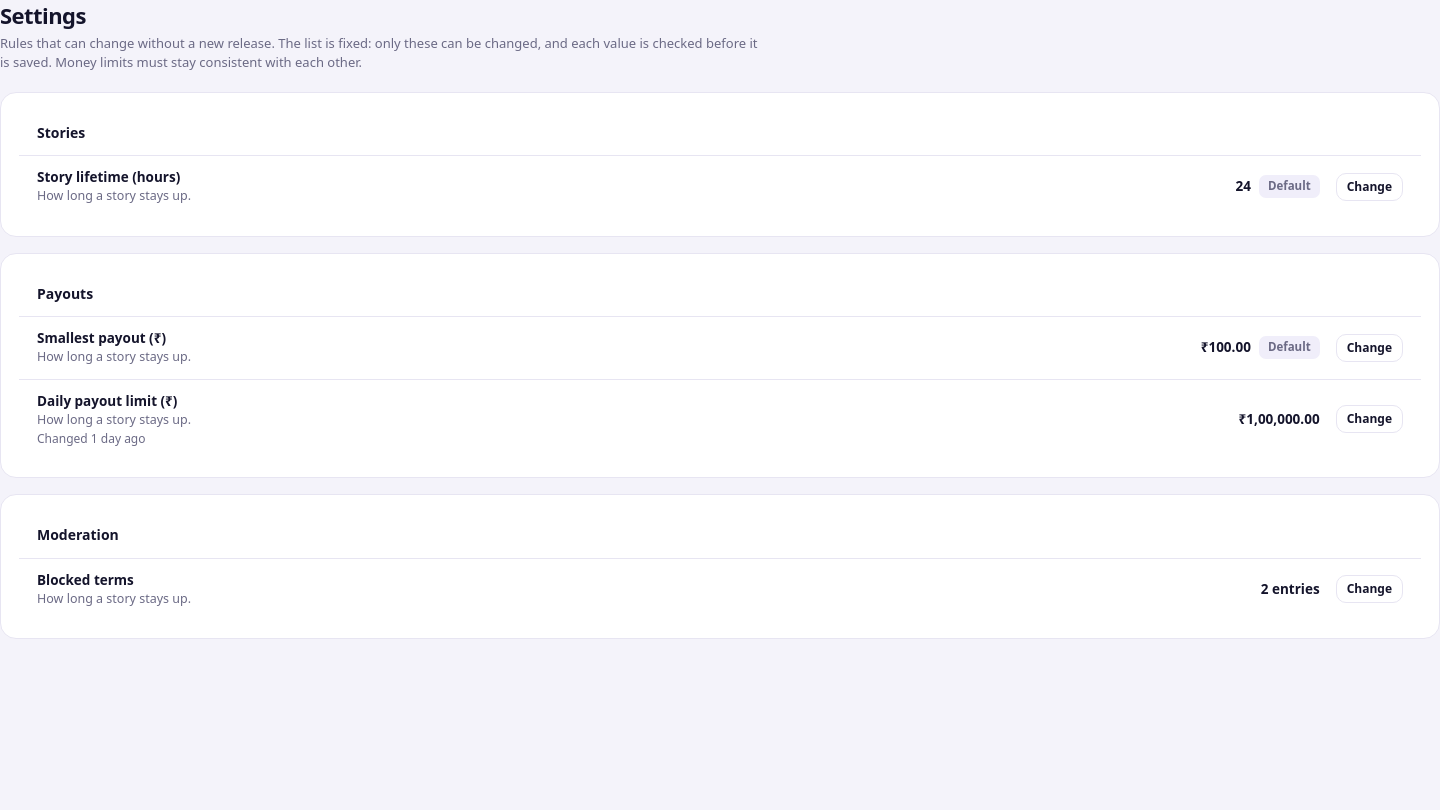
the settings page › will not send a blank number
The width and height of the screenshot is (1440, 810).
Click the button with aria-label "Change Story lifetime (hours)".
click(1369, 187)  # box [1336,173,1403,201]
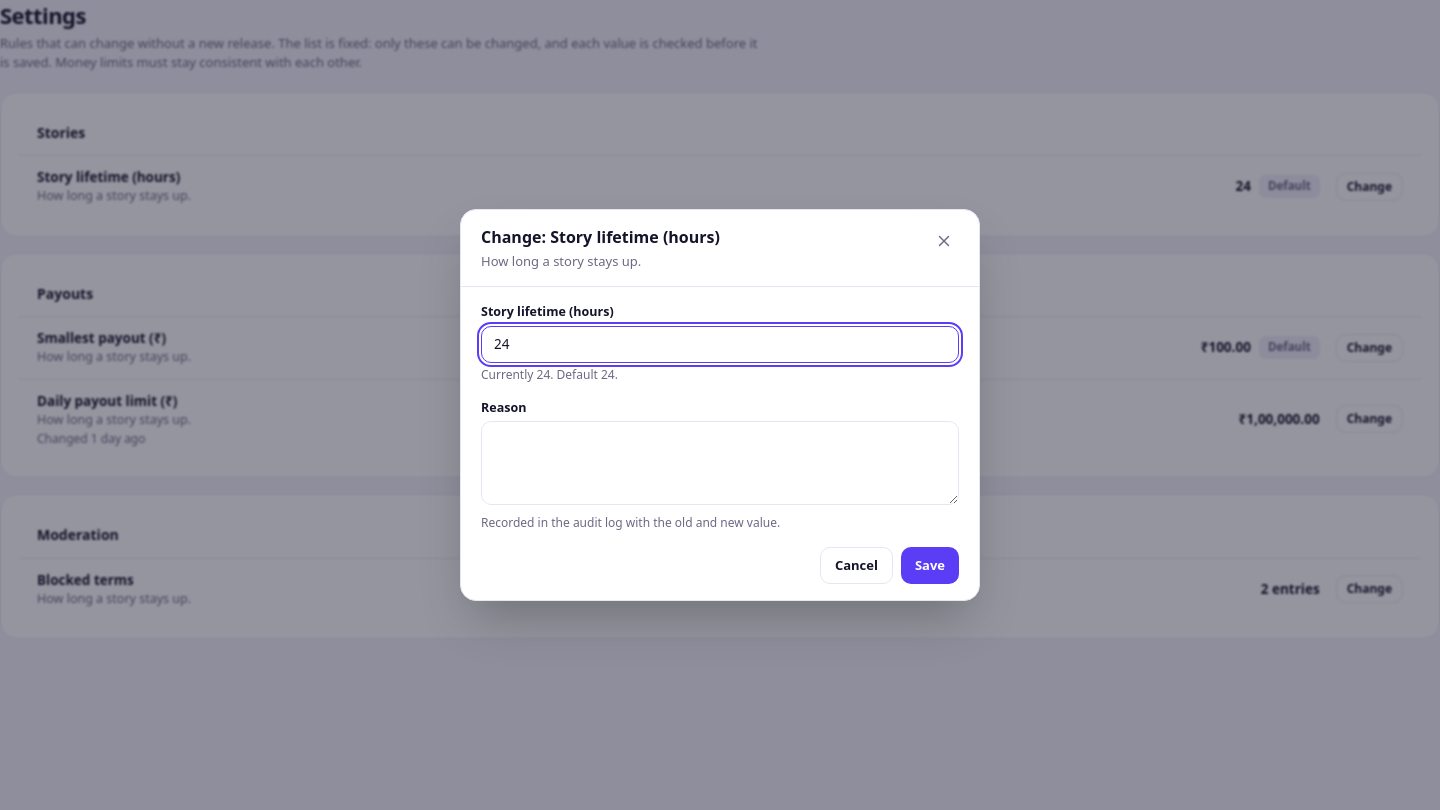
Clear the field labelled "Story lifetime (hours)" at (720, 344), box [481,326,959,363]
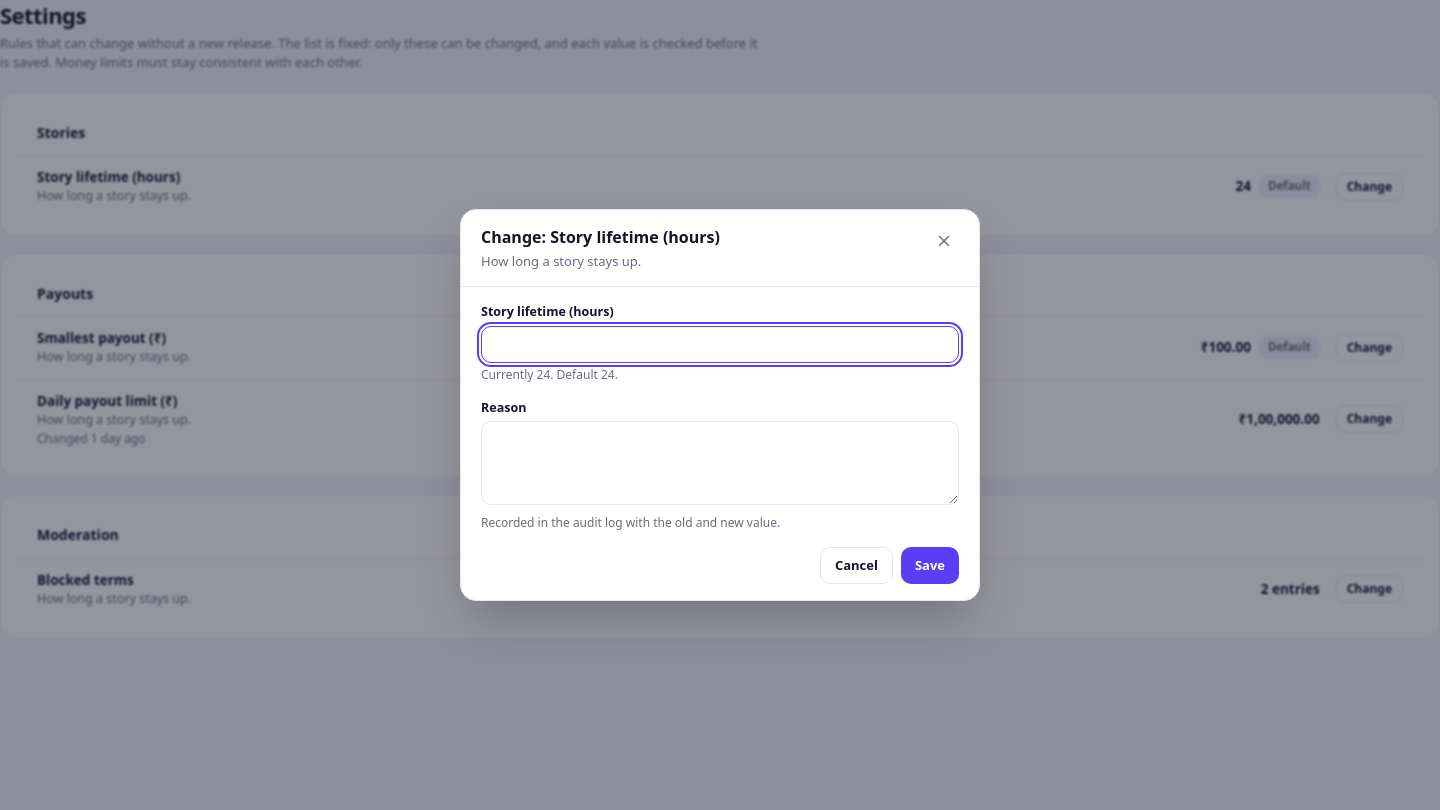
Type "Shorter stories as an experiment" into the text box labelled "Reason".
click(720, 463); type("Shorter stories as an experiment")  # box [481,421,959,505]
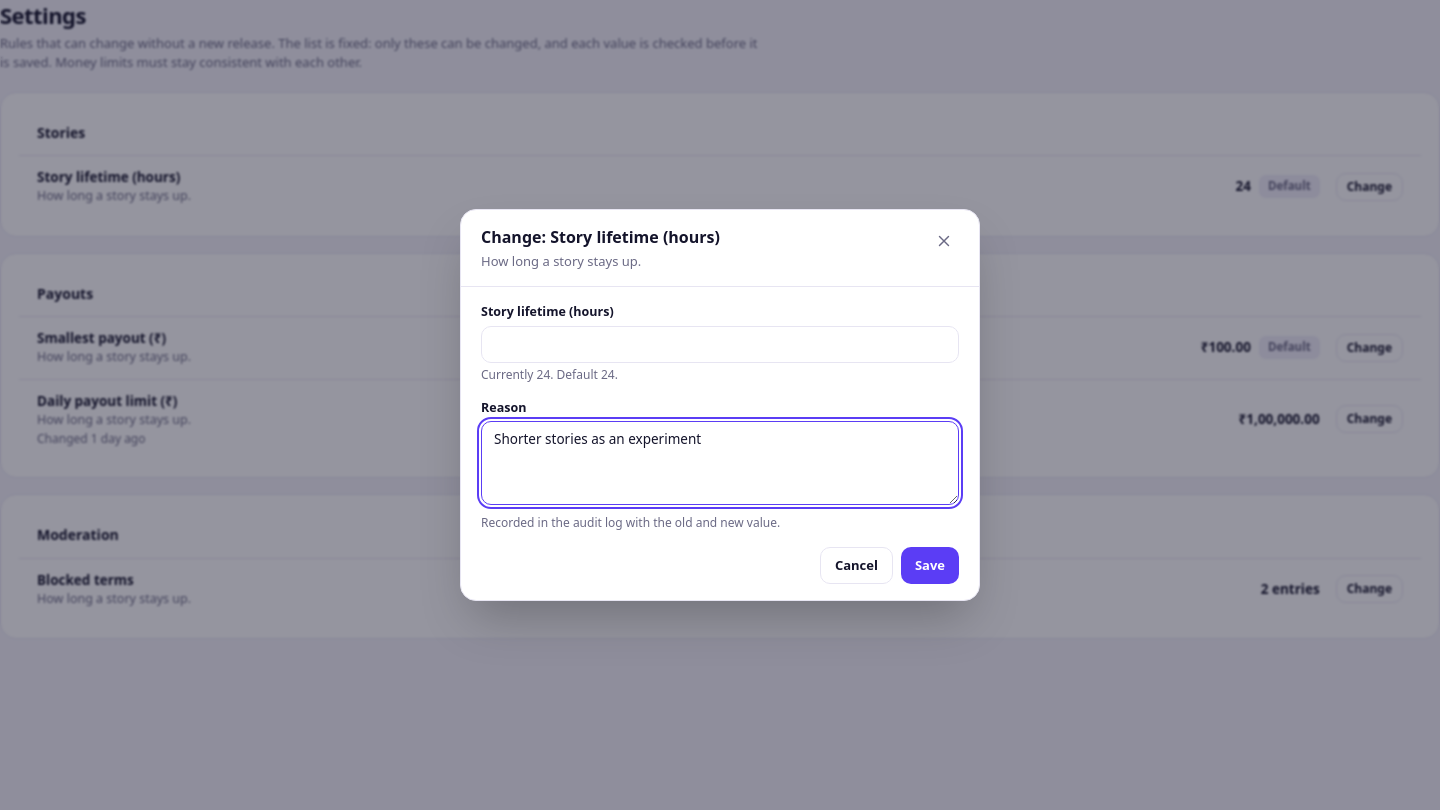
Click the button "Save".
click(930, 565)  # box [901,547,959,584]
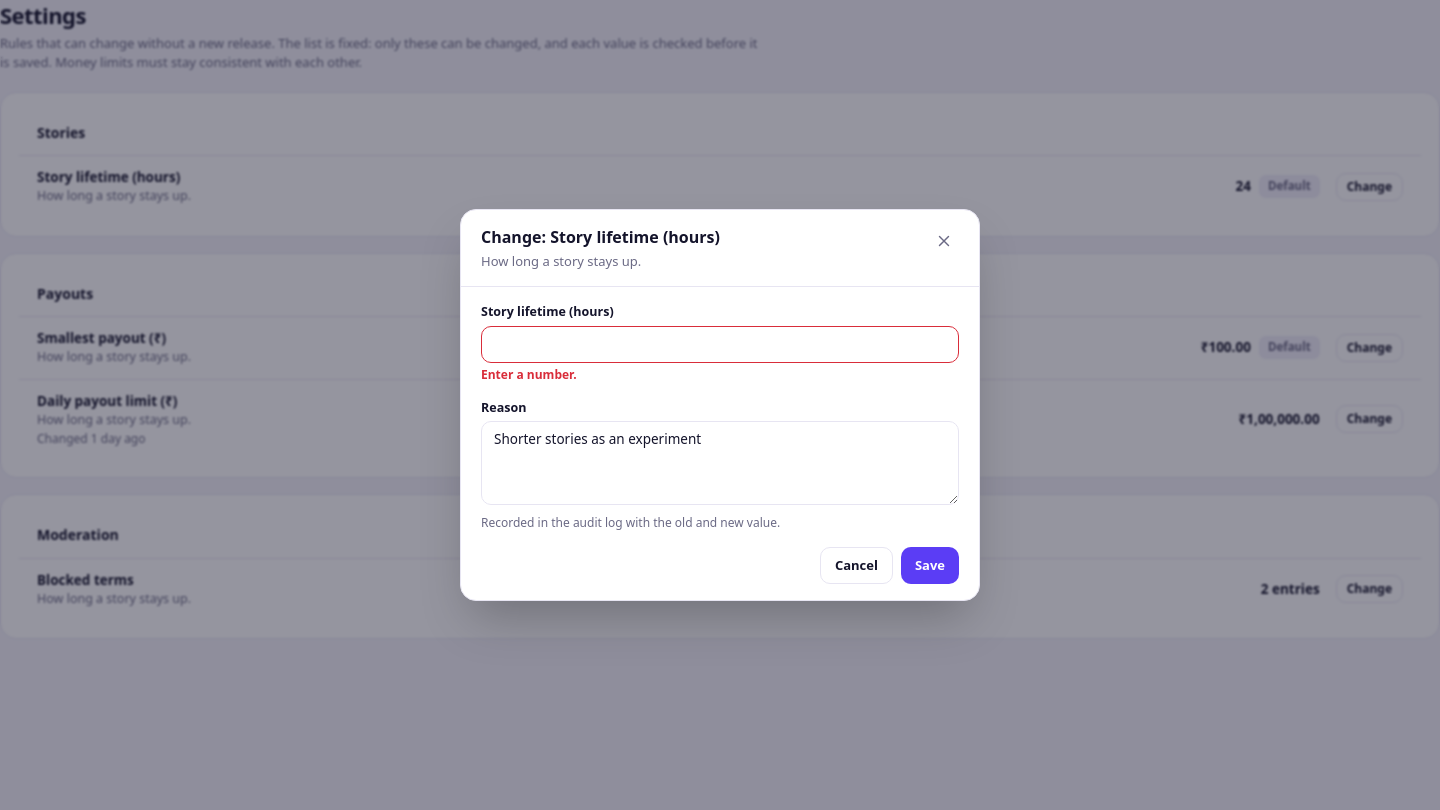
Now the text "Enter a number." is shown, box [481,366,577,383]
